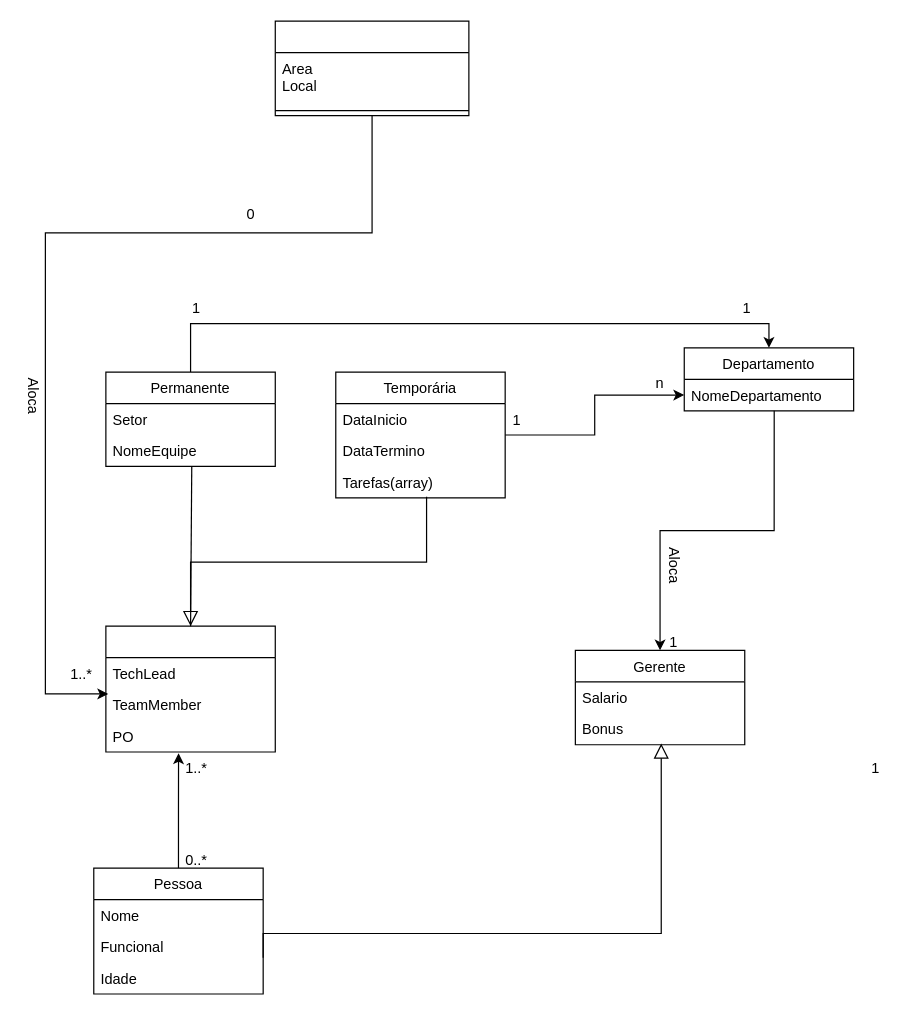
Some shapes in this 921 by 1019 pixel diagram are drawn without their labels. The shapes that lost their labels are listed below. From the top down, each one's box as (x1, y1, x2, y2) in pixels, then its label:
(274, 20, 469, 116): Escritorio
(105, 625, 275, 752): Equipe
